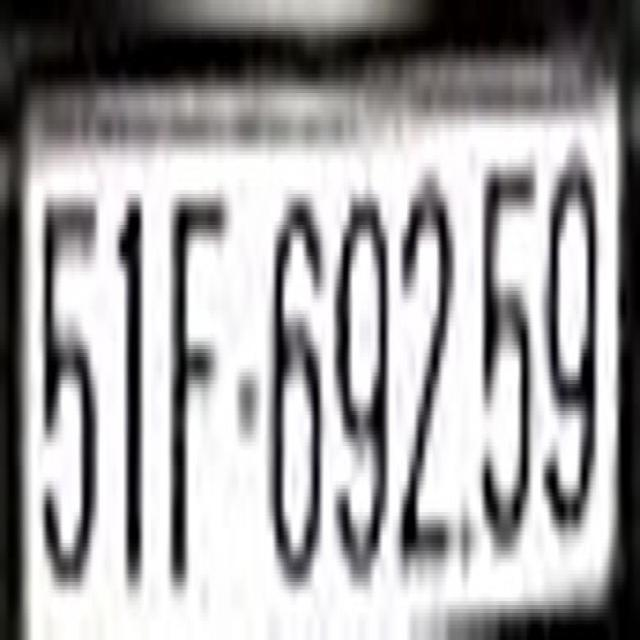1: (116, 186, 145, 578)
2: (401, 182, 452, 558)
5: (45, 198, 101, 590), (481, 152, 536, 536)
6: (272, 198, 322, 590)
9: (332, 182, 392, 582), (544, 151, 598, 547)
F: (168, 202, 236, 586)
